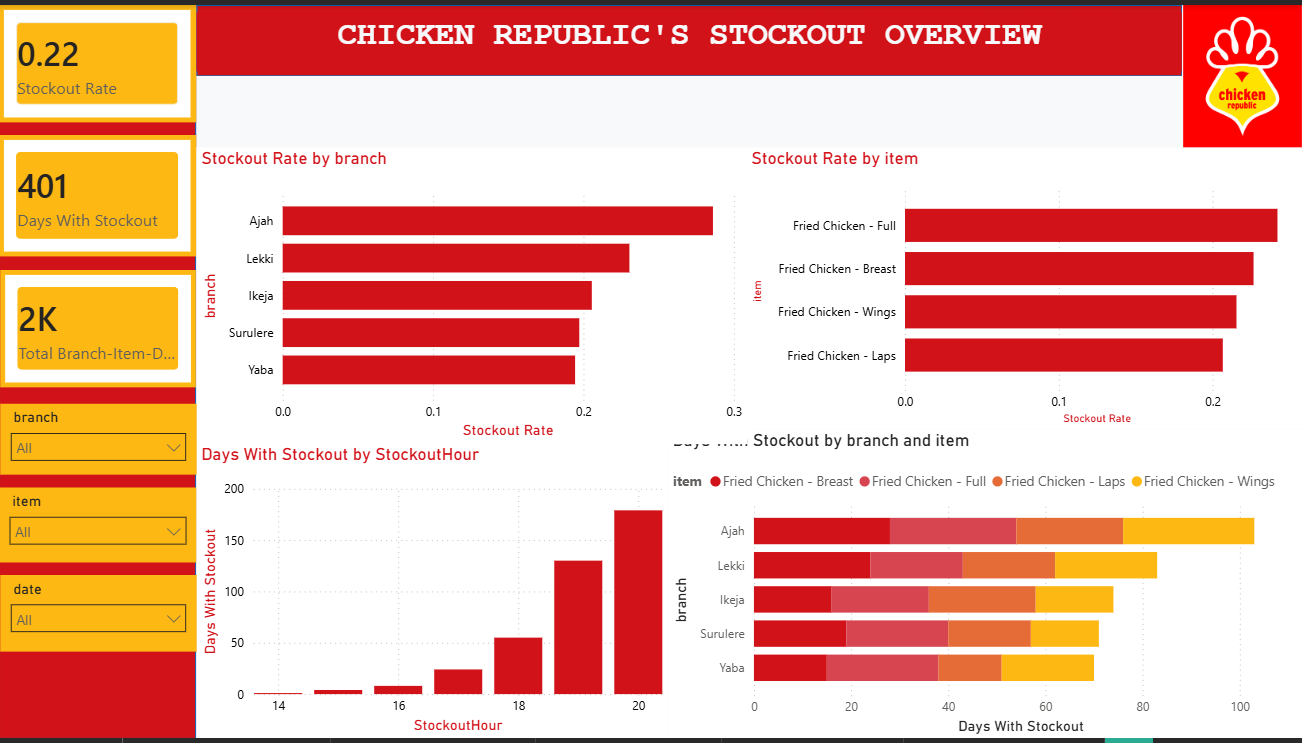

The dashboard page shown, as its layout file describes it:
{"tool":"powerbi","page":{"name":"STOCKOUT OVERVIEW","canvas":[1280,720],"ordinal":1},"visuals":[{"type":"shape","box":[0,0,193.5,720.4],"z":0},{"type":"image","box":[1160.9,0,119.4,140],"z":1000},{"type":"cardVisual","fields":{"Data":["tasty_fried_chicken_raw_dataset.Stockout Rate"]},"box":[0,0,193.5,115.3],"z":2000},{"type":"cardVisual","fields":{"Data":["tasty_fried_chicken_raw_dataset.Days With Stockout"]},"box":[0,127.6,193.5,119.4],"z":3000},{"type":"cardVisual","fields":{"Data":["tasty_fried_chicken_raw_dataset.Total Branch-Item-Days"]},"box":[1.4,260.7,192.1,115.3],"z":4000},{"type":"barChart","fields":{"Category":["DailySummary.branch"],"Series":["DailySummary.item"],"Y":["tasty_fried_chicken_raw_dataset.Days With Stockout"]},"box":[655.9,417.2,624.4,303.3],"z":5000},{"type":"shape","box":[193.5,0,967.4,70],"z":6000},{"type":"clusteredBarChart","fields":{"Category":["DailySummary.branch"],"Y":["tasty_fried_chicken_raw_dataset.Stockout Rate"]},"box":[193.5,140,540.7,290.9],"z":7000},{"type":"clusteredBarChart","fields":{"Category":["DailySummary.item"],"Y":["tasty_fried_chicken_raw_dataset.Stockout Rate"]},"box":[734.1,140,546.1,277.2],"z":8000},{"type":"clusteredColumnChart","fields":{"Category":["DailySummary.StockoutHour"],"Y":["tasty_fried_chicken_raw_dataset.Days With Stockout"]},"box":[193.5,430.9,462.4,289.5],"z":9000},{"type":"textbox","box":[193.5,6.9,967.4,57.6],"z":10000},{"type":"slicer","fields":{"Values":["DailySummary.branch"]},"box":[1.2,391.4,192.6,69.9],"z":10001},{"type":"slicer","fields":{"Values":["DailySummary.item"]},"box":[0,473.6,193.9,73.6],"z":10002},{"type":"slicer","fields":{"Values":["DailySummary.date"]},"box":[1.2,559.5,192.6,74.8],"z":10003}]}

Visuals, with their boxes in screenshot pixels (x1, y1, x2, y2), scaled from the page's 1280x720 canvas onto the 1302x743 screenshot:
shape: x1=0, y1=0, x2=197, y2=742
image: x1=1181, y1=0, x2=1301, y2=144
cardVisual - tasty_fried_chicken_raw_dataset.Stockout Rate: x1=0, y1=0, x2=197, y2=119
cardVisual - tasty_fried_chicken_raw_dataset.Days With Stockout: x1=0, y1=132, x2=197, y2=255
cardVisual - tasty_fried_chicken_raw_dataset.Total Branch-Item-Days: x1=1, y1=269, x2=197, y2=388
barChart - DailySummary.branch x DailySummary.item: x1=667, y1=431, x2=1301, y2=742
shape: x1=197, y1=0, x2=1181, y2=72
clusteredBarChart - DailySummary.branch x tasty_fried_chicken_raw_dataset.Stockout Rate: x1=197, y1=144, x2=747, y2=445
clusteredBarChart - DailySummary.item x tasty_fried_chicken_raw_dataset.Stockout Rate: x1=747, y1=144, x2=1301, y2=431
clusteredColumnChart - DailySummary.StockoutHour x tasty_fried_chicken_raw_dataset.Days With Stockout: x1=197, y1=445, x2=667, y2=742
textbox: x1=197, y1=7, x2=1181, y2=67
slicer - DailySummary.branch: x1=1, y1=404, x2=197, y2=476
slicer - DailySummary.item: x1=0, y1=489, x2=197, y2=565
slicer - DailySummary.date: x1=1, y1=577, x2=197, y2=655
